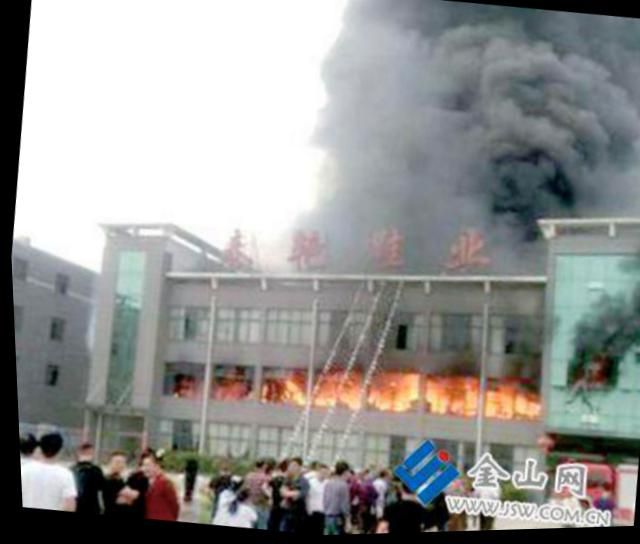fire: (419, 373, 474, 417), (364, 367, 416, 412), (478, 385, 536, 421), (307, 369, 359, 408), (251, 373, 303, 403)
